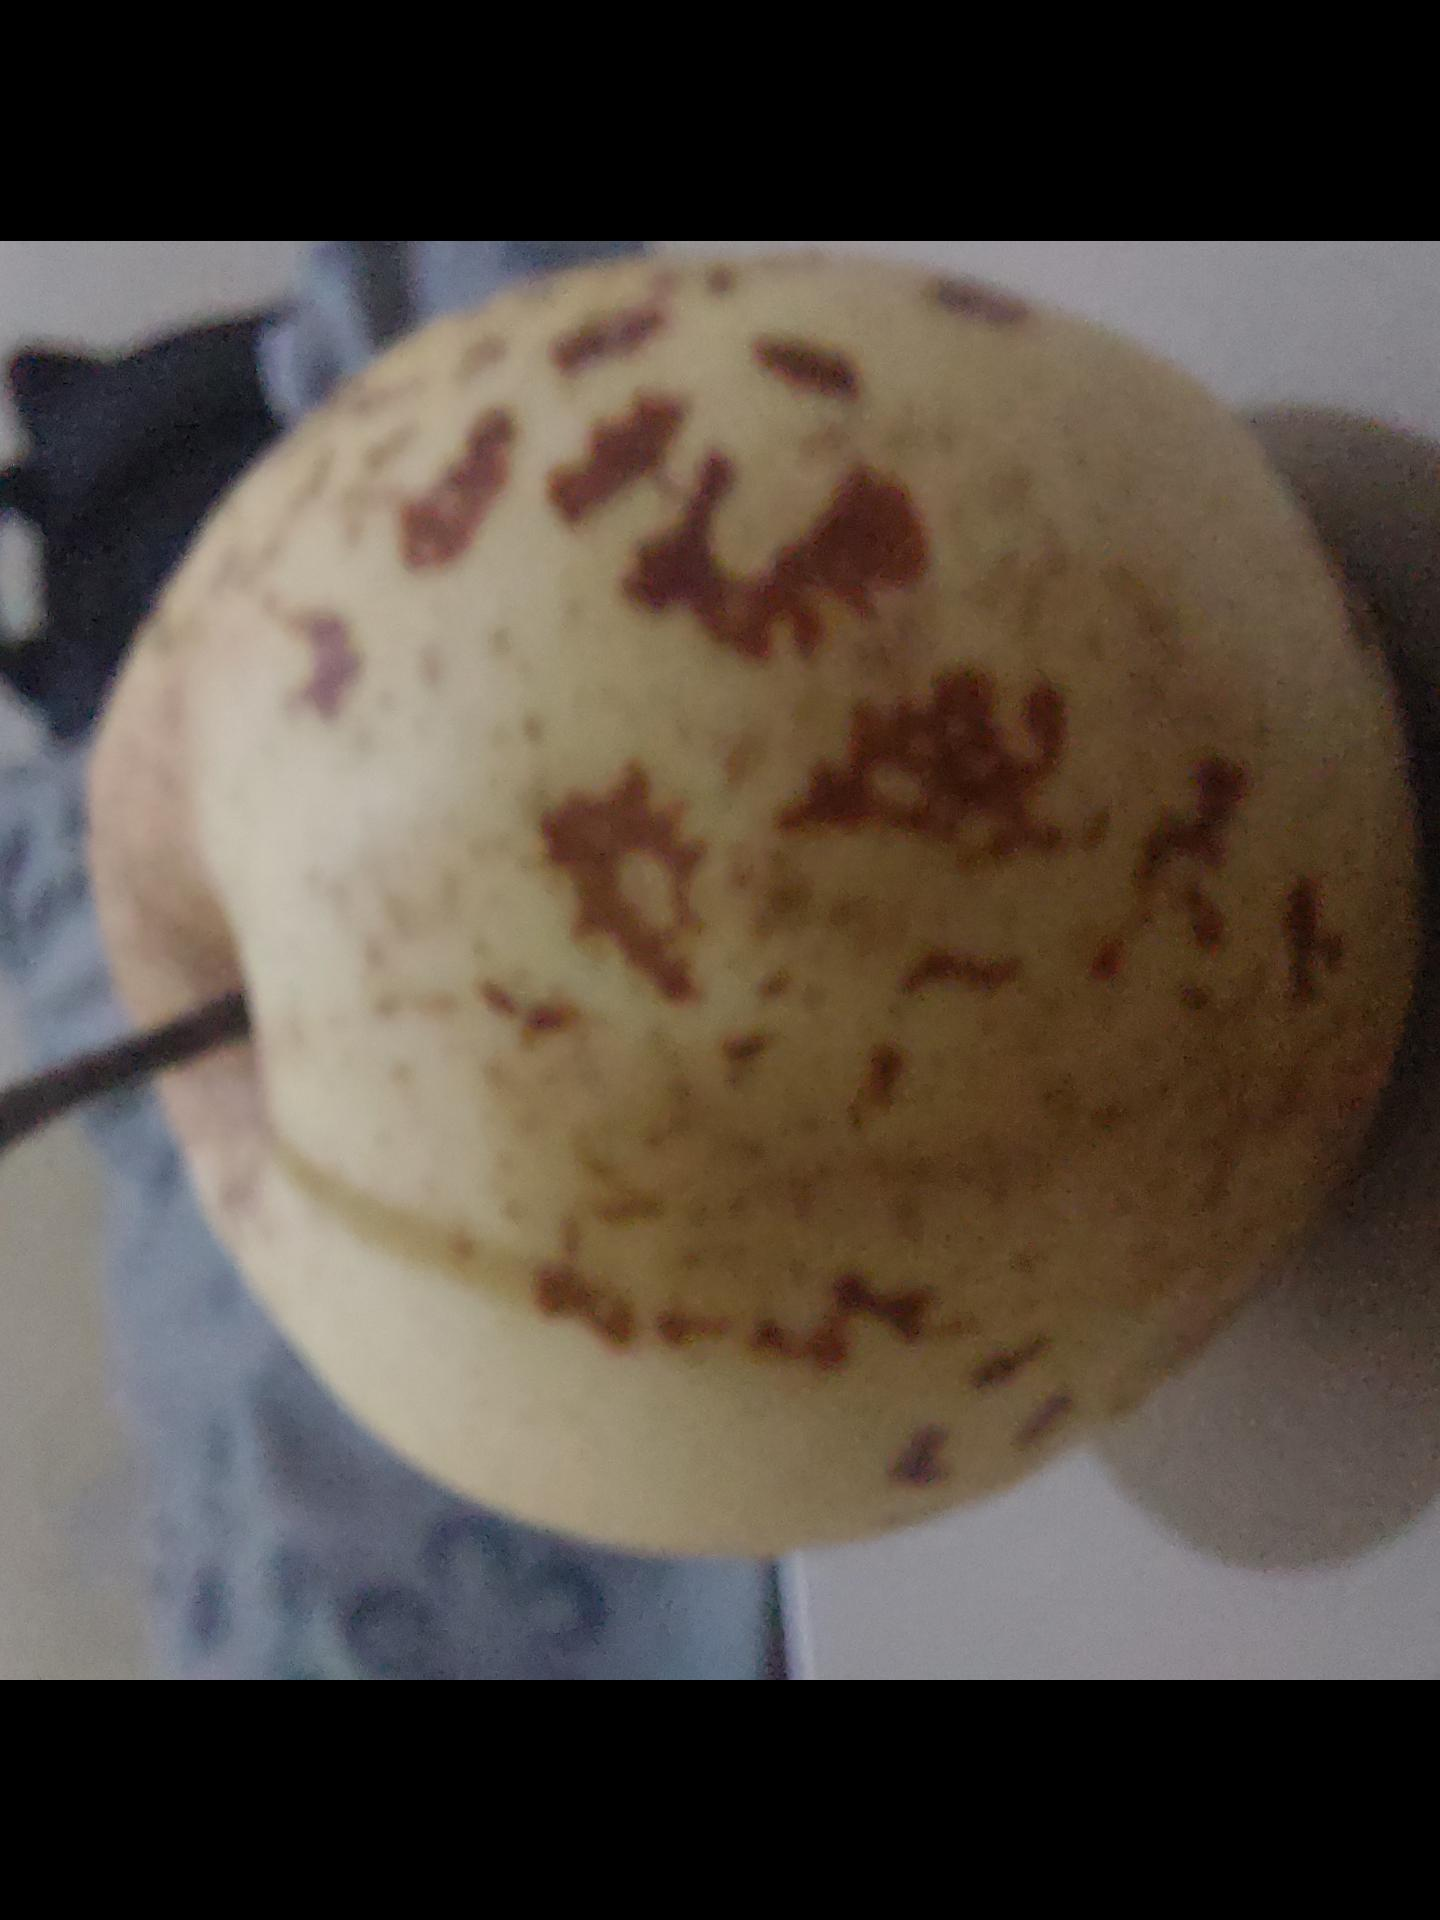Bad Pear: (0, 245, 1440, 1575)
